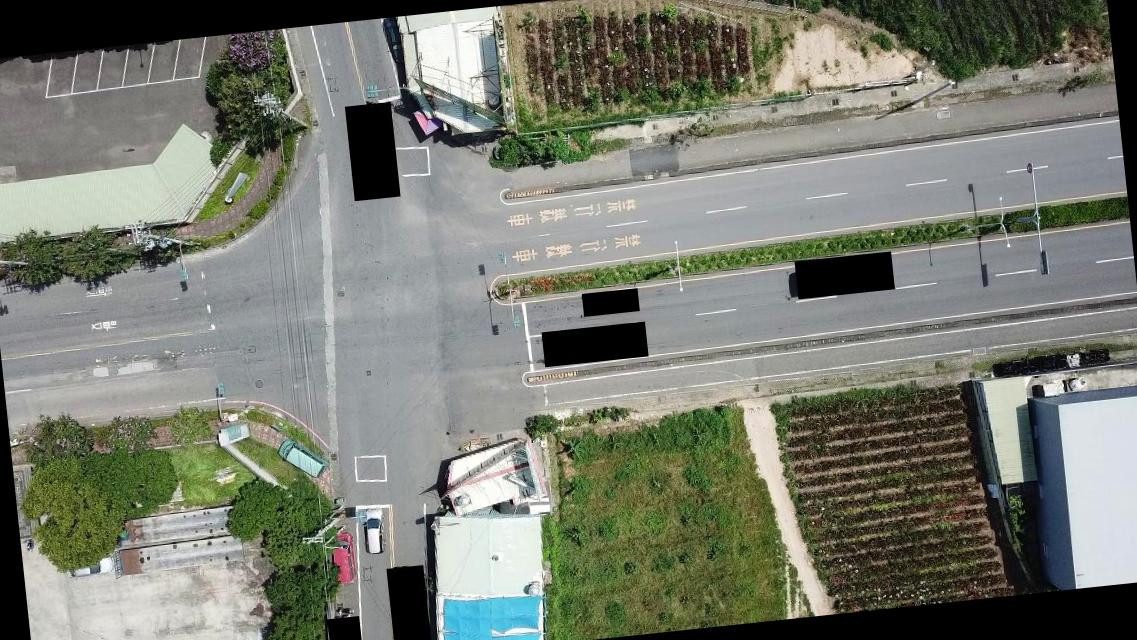vehicle: (280, 434, 330, 485), (328, 532, 360, 584), (64, 549, 116, 577), (361, 506, 386, 556), (384, 18, 402, 58)
